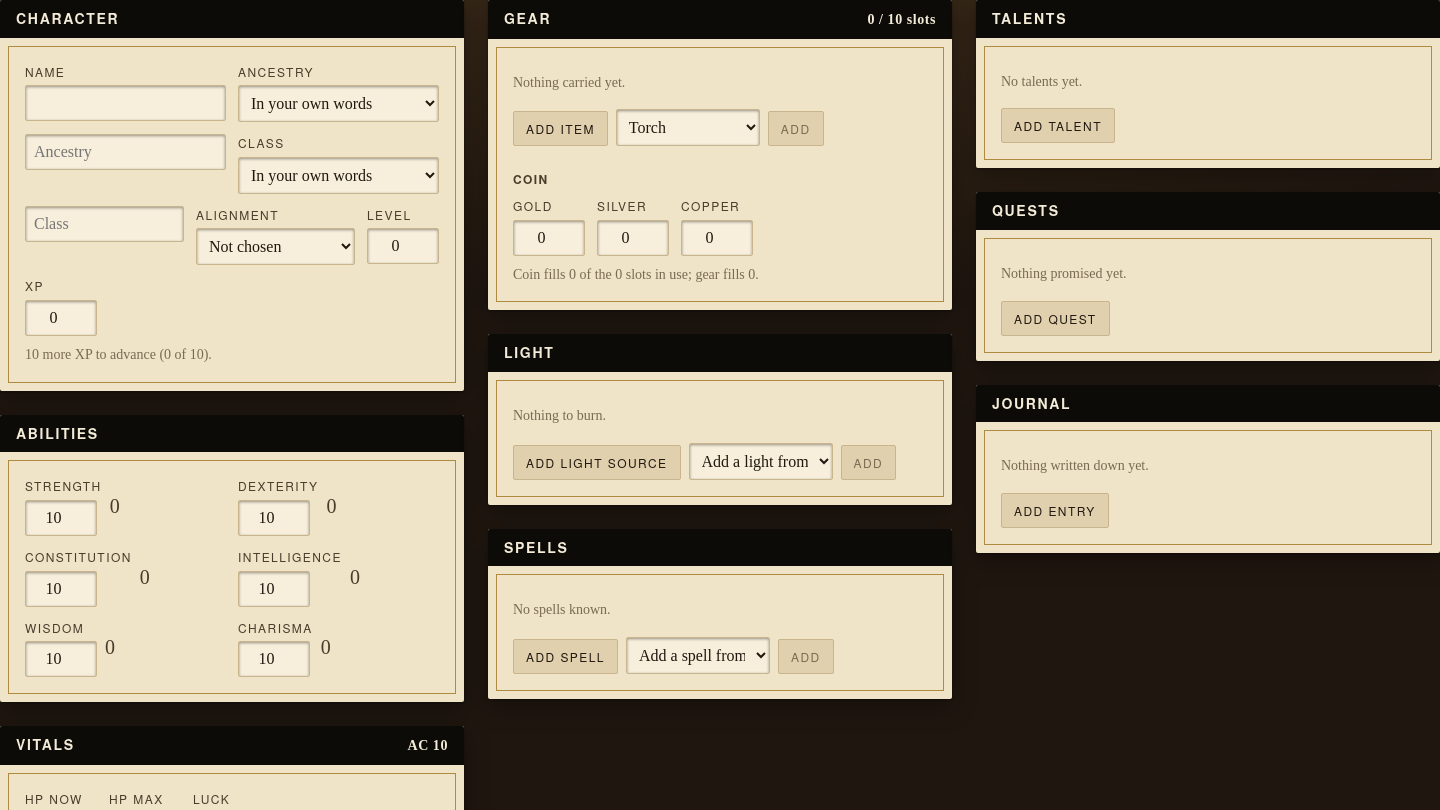
Test case: a row added from a pack › stores the reference and reads its name back out of the pack
The image size is (1440, 810).
Select "Torch" in the dropdown below "Nothing carried yet." at [688, 128], box [616, 109, 760, 146]
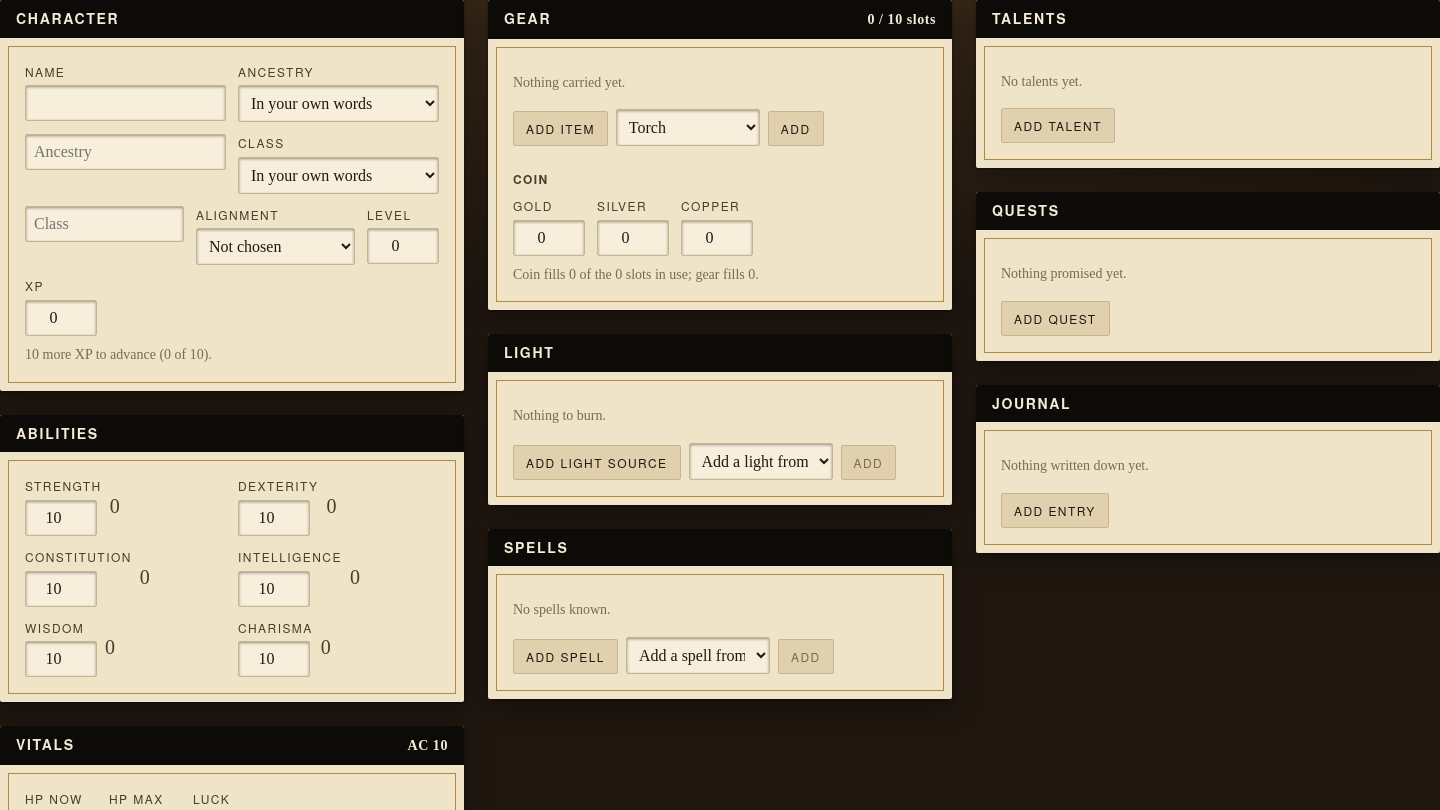
Click the button "Add" below "Nothing carried yet." at [796, 129], box [768, 111, 824, 146]
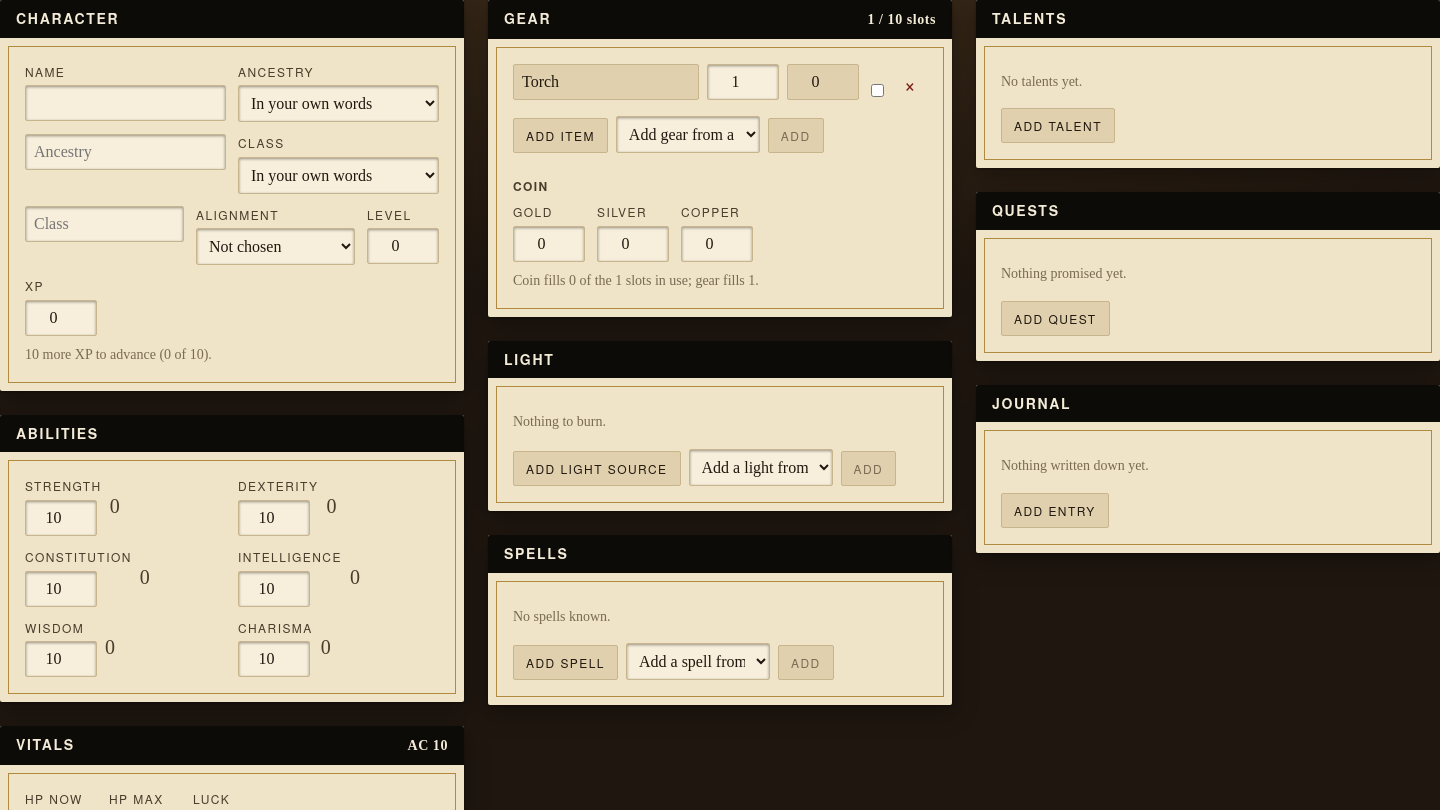
Expected: the 1st field holds "Torch", [513, 64, 699, 100]
